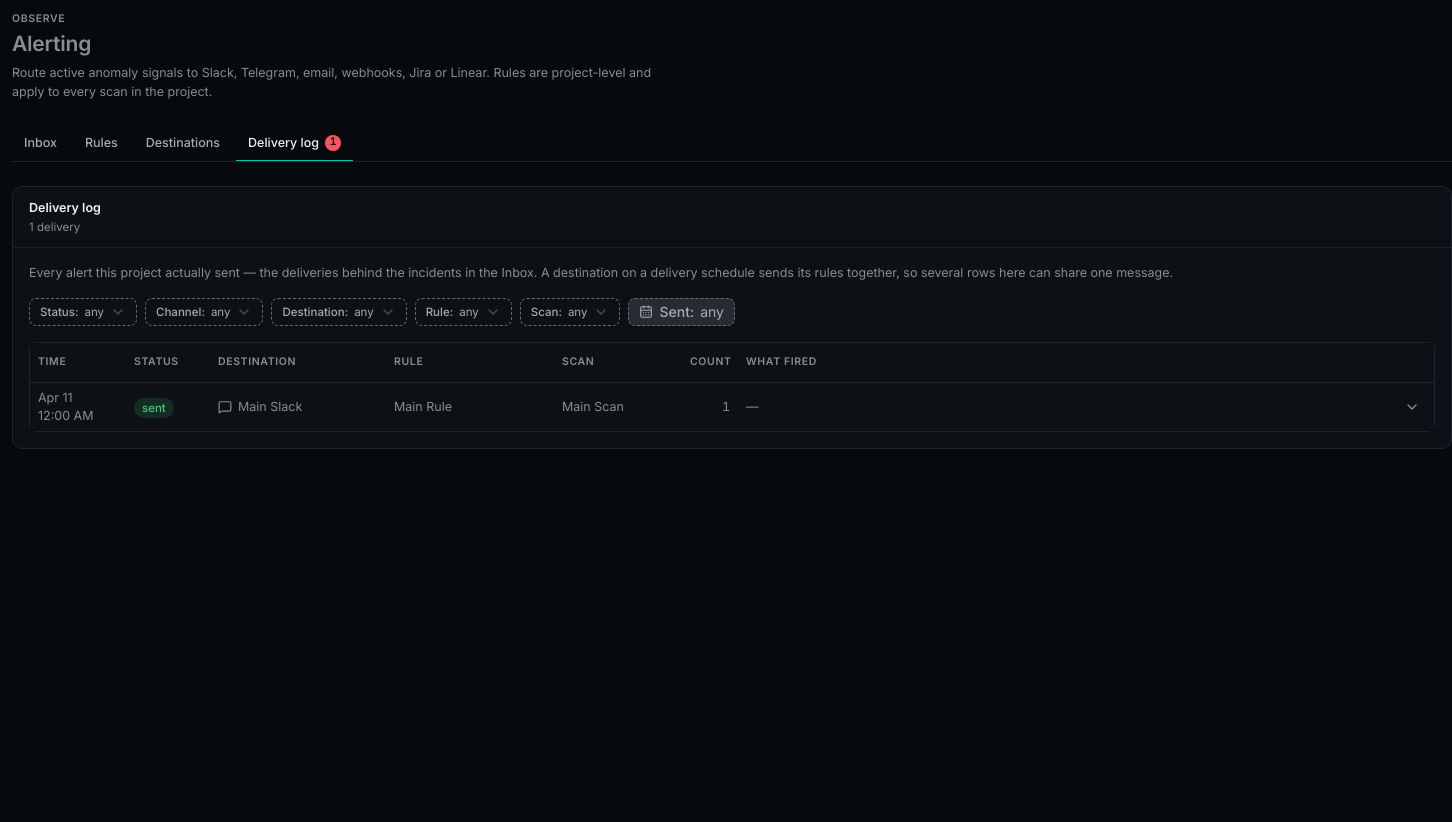
Scenario: ProjectSettingsPage › expands alert delivery audit items
What coordinates should you click on to do the following:
click the button named "Expand delivery details"
I would click on:
 (1412, 407)
Its box is x1=1398 y1=393 x2=1426 y2=421.
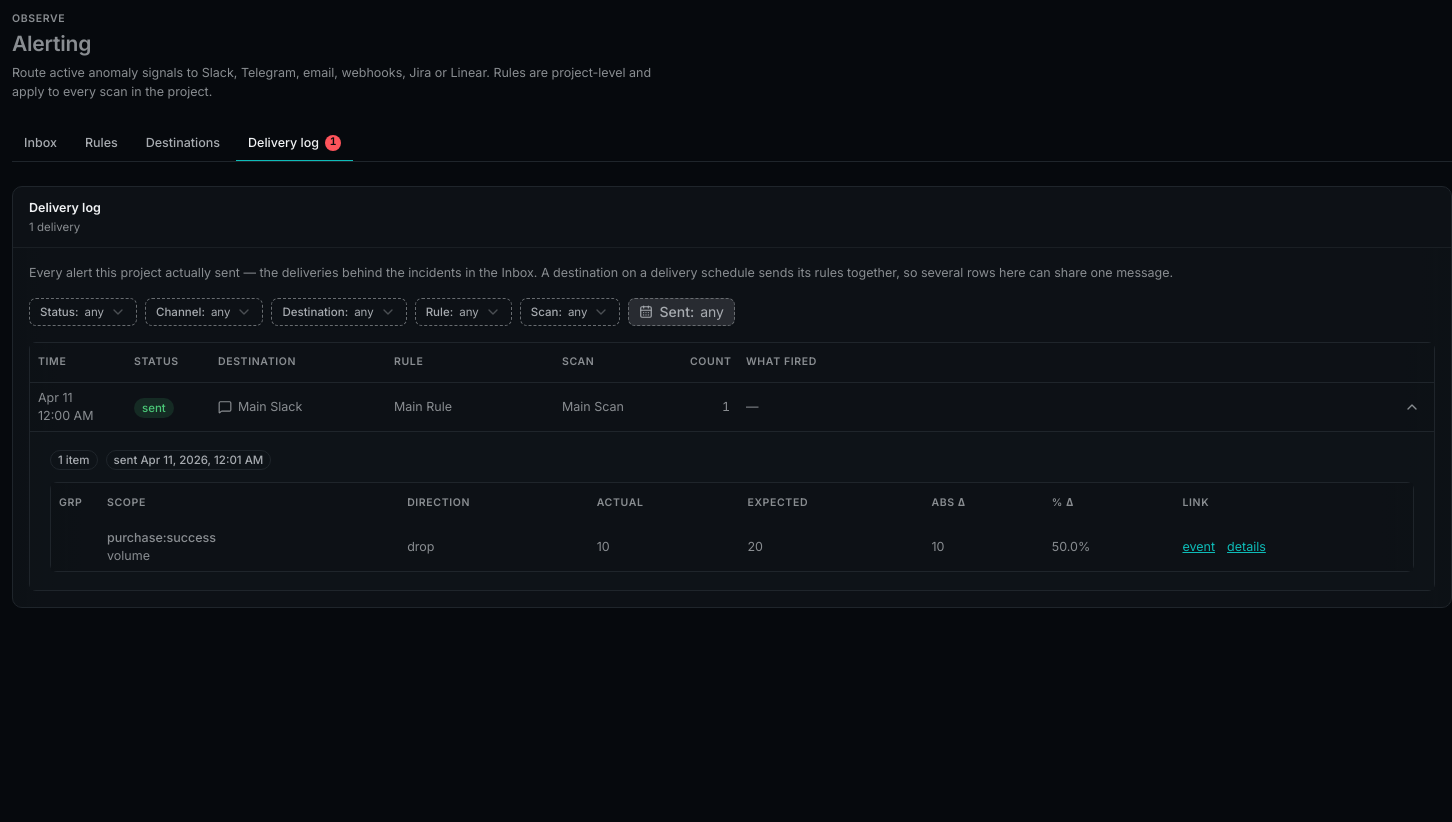
Expected: the text "purchase:success" is shown, x1=107 y1=529 x2=216 y2=547
Expected: the link "details" is shown, x1=1227 y1=538 x2=1266 y2=556
Expected: the text "50.0%" is shown, x1=1044 y1=523 x2=1174 y2=571
